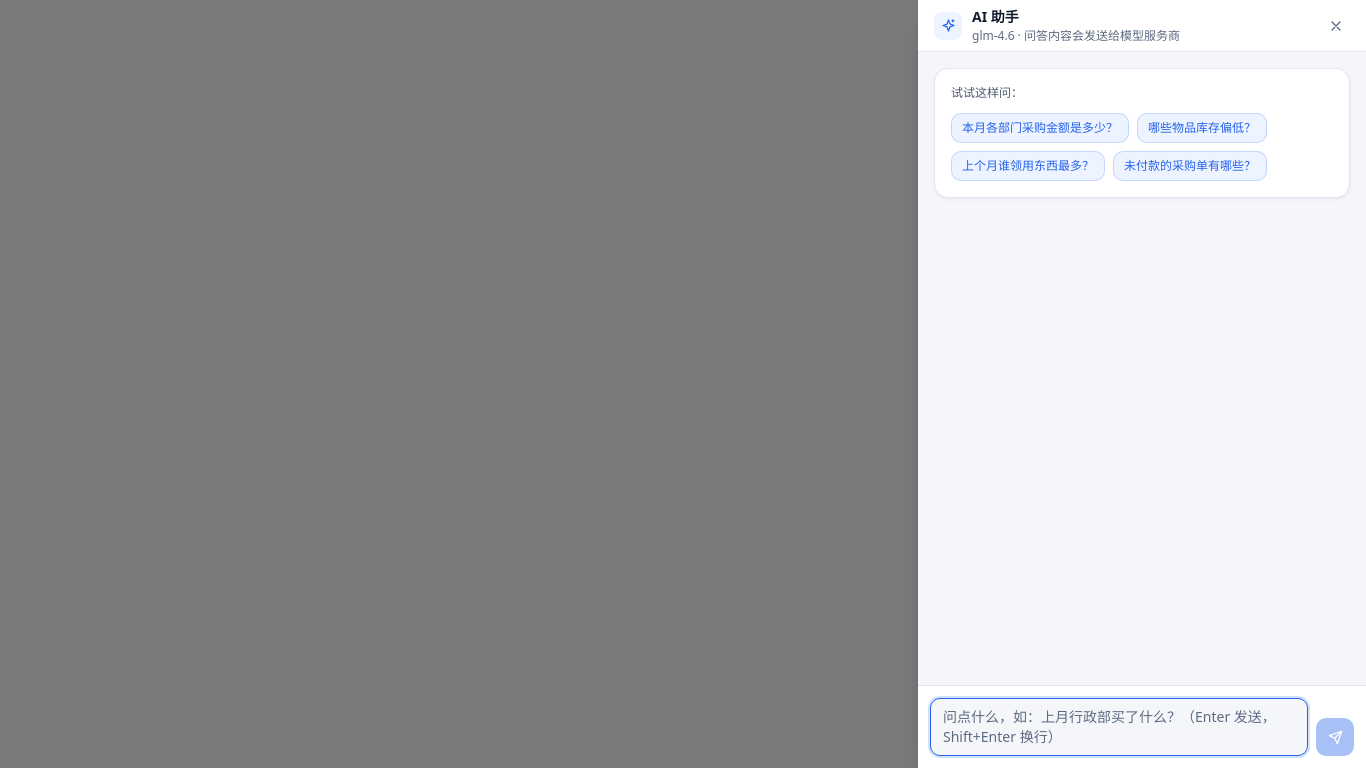
Scenario: AiPanel › ask 失败时把错误渲染成助手消息
Type "你好" into the text box with placeholder "问点什么，如：上月行政部买了什么？（Enter 发送，Shift+Enter 换行）" at (1119, 727), box [930,698,1308,756]
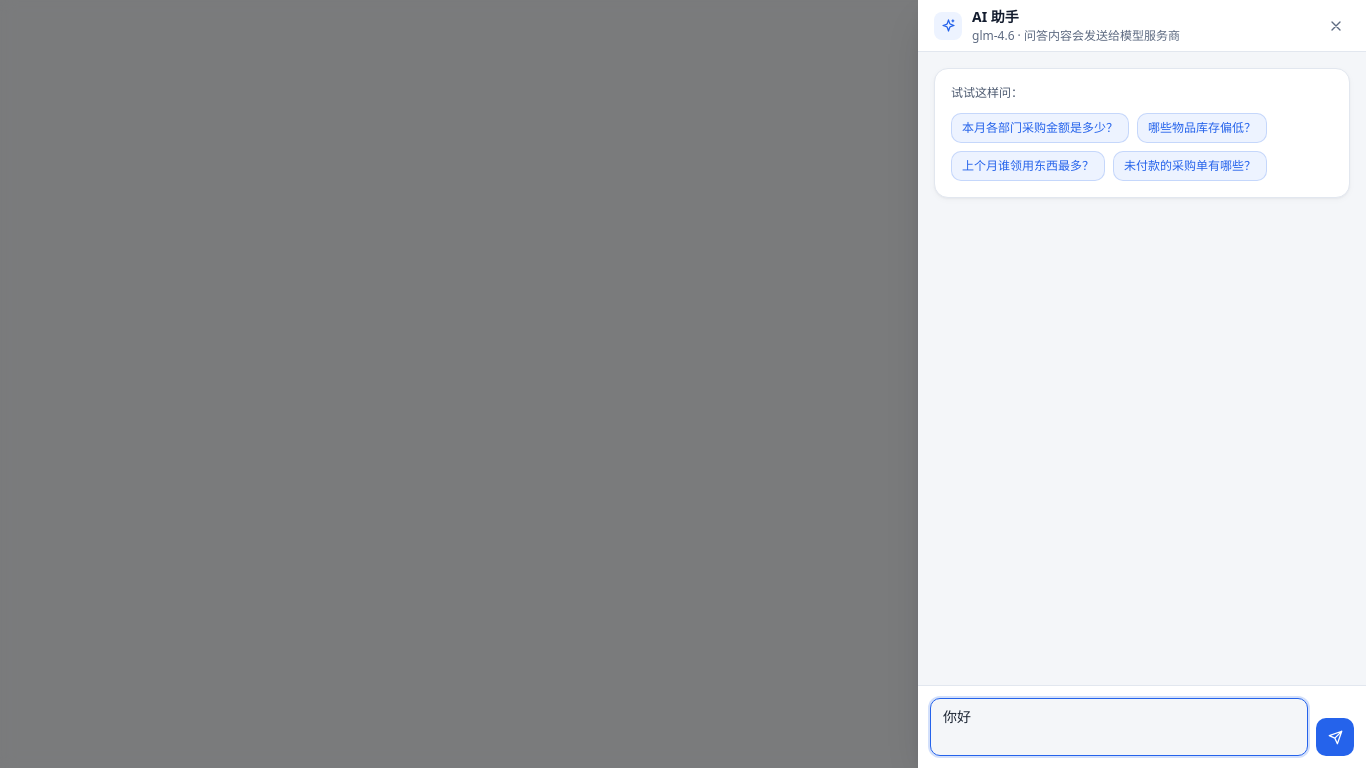
Press Enter in the text box, box [930,698,1308,756]
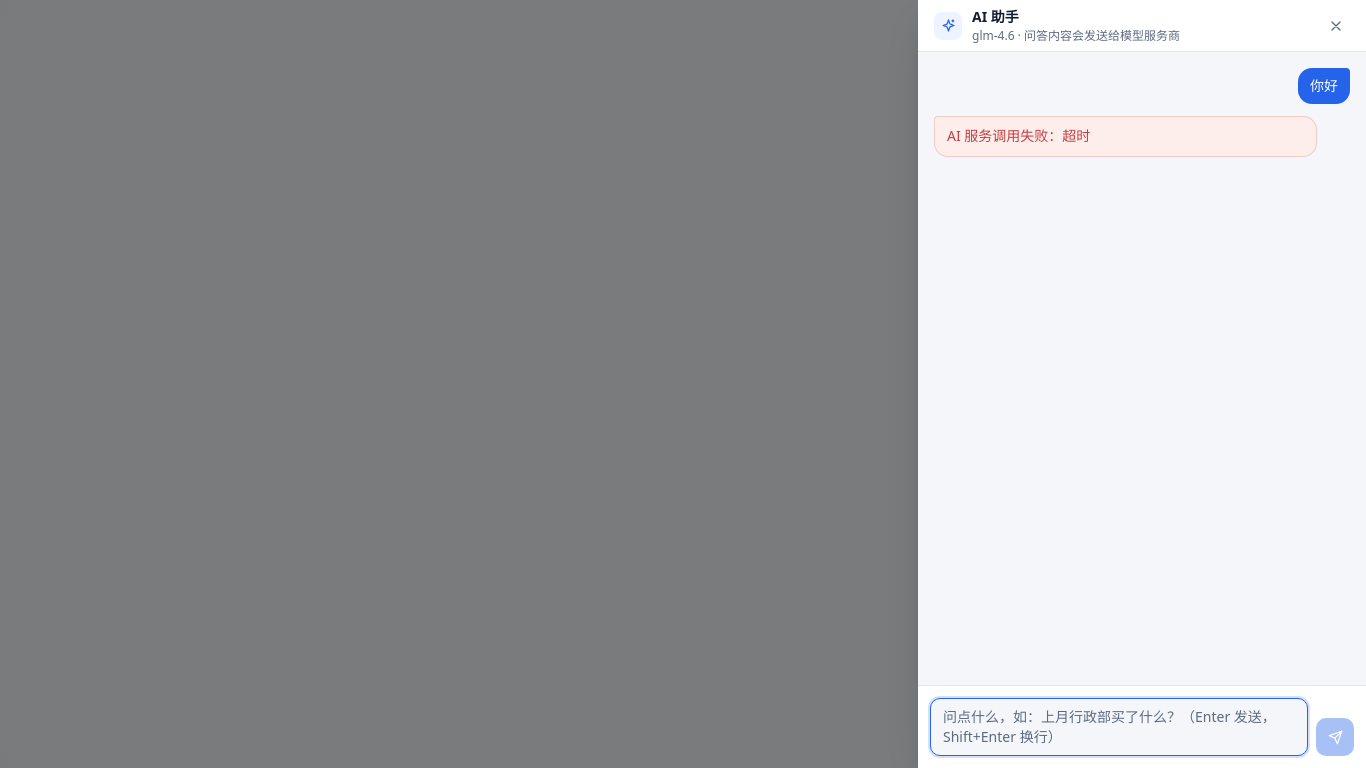
Check: the text "AI 服务调用失败：超时" is shown, box [947,126,1090,145]
